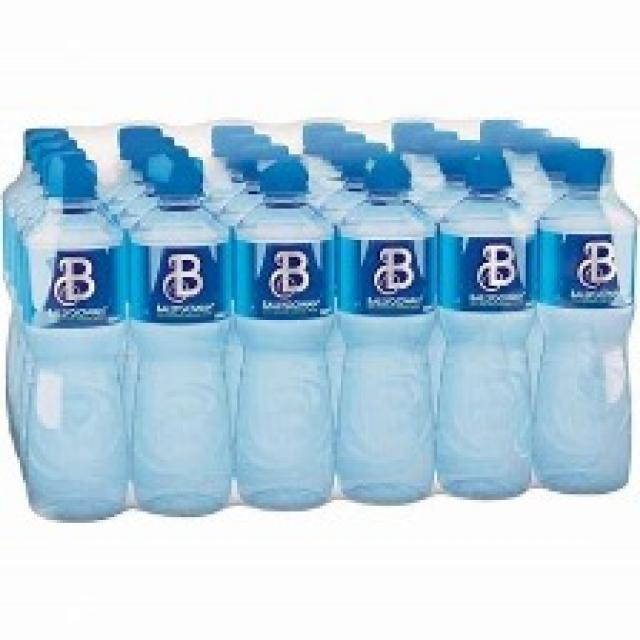plastic_bottle: (16, 148, 134, 524), (226, 174, 341, 506), (445, 169, 528, 503)
